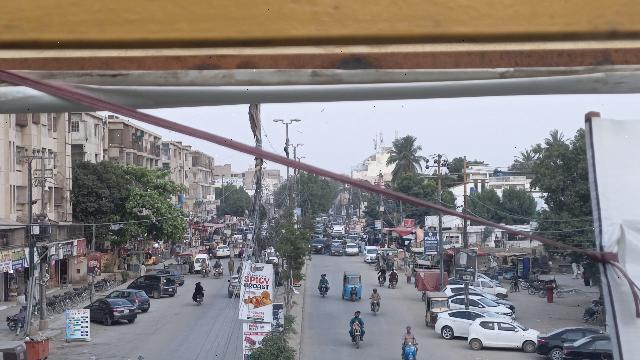Bike: (349, 325, 366, 350), (401, 342, 420, 360), (318, 282, 331, 298), (370, 298, 381, 316), (193, 294, 204, 309), (376, 275, 387, 288), (389, 278, 399, 289)
Car: (467, 315, 540, 353), (536, 325, 606, 360), (434, 308, 497, 339), (557, 330, 610, 360), (81, 296, 137, 324), (451, 295, 515, 318), (126, 274, 178, 299), (109, 288, 152, 313)
Person: (15, 306, 27, 335), (402, 323, 417, 344), (348, 308, 364, 326), (193, 280, 205, 295), (370, 285, 380, 299), (319, 273, 329, 285), (379, 265, 388, 277), (390, 267, 399, 278)
Rickshaw: (424, 291, 450, 330), (340, 269, 365, 301)
